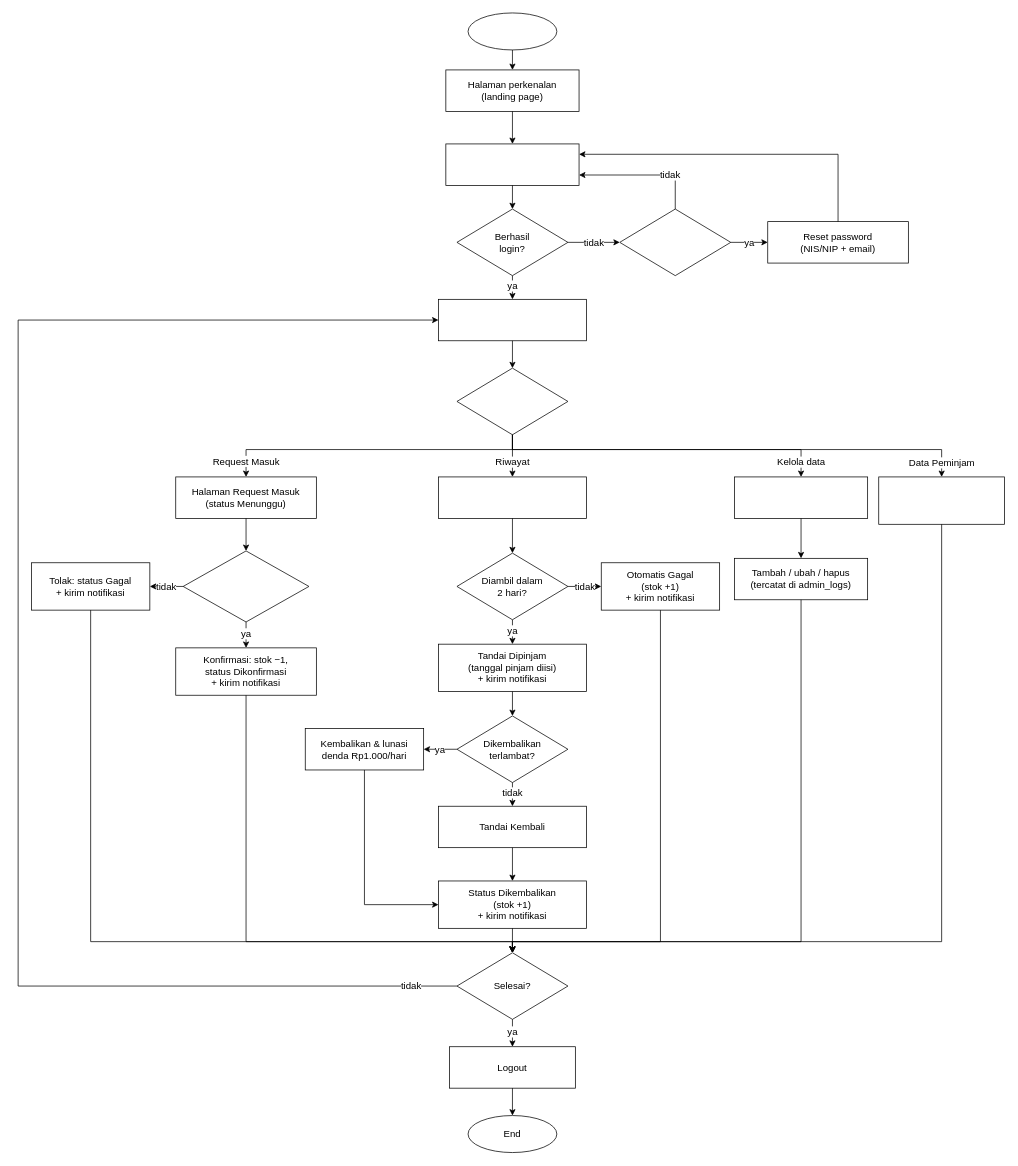
The diagram is 1018 pixels wide and 1166 high, and some of its shapes have lost their labels. Each missing label, with the centre of its shape:
"Dashboard admin (ringkasan & terlambat)" belongs at point 512,320.
"Data Peminjam (cari & lihat pinjaman aktif/terlambat)" belongs at point 941,500.
"Halaman Riwayat Peminjaman" belongs at point 512,497.
"Kelola buku, kategori, penulis & ulasan" belongs at point 801,497.
"Login admin (NIS/NIP + password)" belongs at point 512,164.
"Lupa password?" belongs at point 675,242.
"Pilih menu" belongs at point 512,401.
"Start" belongs at point 512,31.
"Stok tersedia & disetujui?" belongs at point 245,586.
